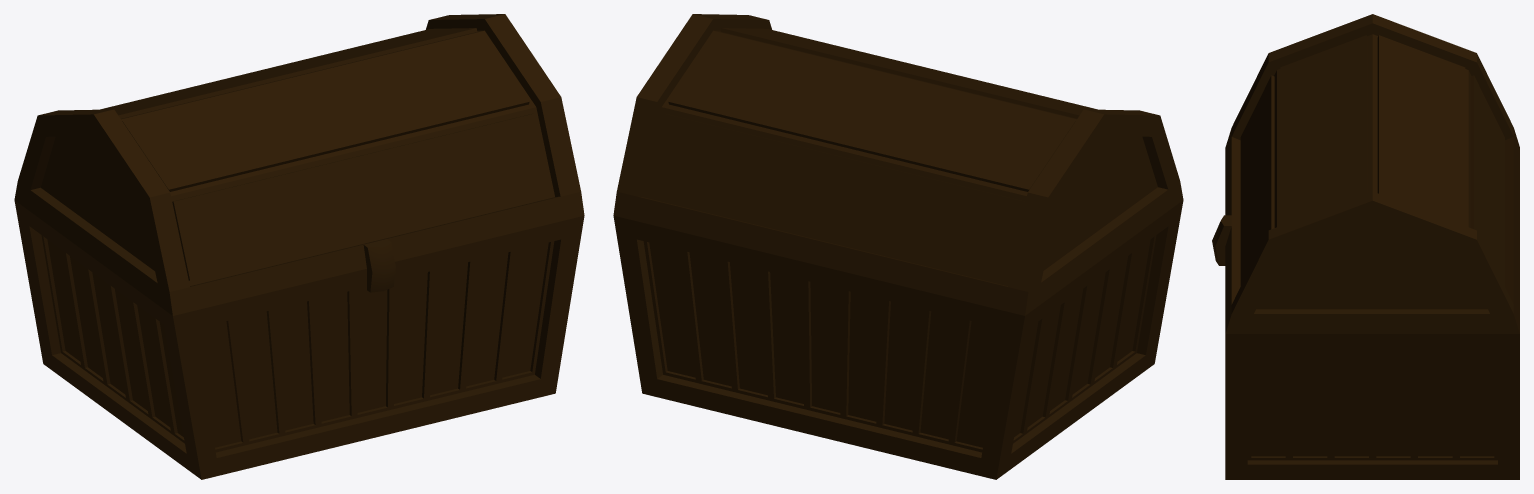
File: Coffre.FBX
3 renders of one model, left to right at view 1: azimuth 30°, elevation 25°; view 2: azimuth 150°, elevation 25°; view 3: azimuth 270°, elevation 25°, orthographic. The views are drawn at different scales.
Parts seen in each view (by area): view 1: Box003, Box001, Box005; view 2: Box003, Box001; view 3: Box003, Box001, Box005.
Part boxes in pixels (bbox=[...]): Box003: bbox=[14, 14, 584, 315]; Box001: bbox=[14, 200, 584, 479]; Box005: bbox=[363, 239, 395, 292]; Box003: bbox=[613, 14, 1183, 315]; Box001: bbox=[613, 200, 1183, 479]; Box003: bbox=[1225, 14, 1519, 333]; Box001: bbox=[1225, 334, 1519, 479]; Box005: bbox=[1212, 215, 1231, 265].
Bounding box in the file's own units: 600 × 438 × 418.
